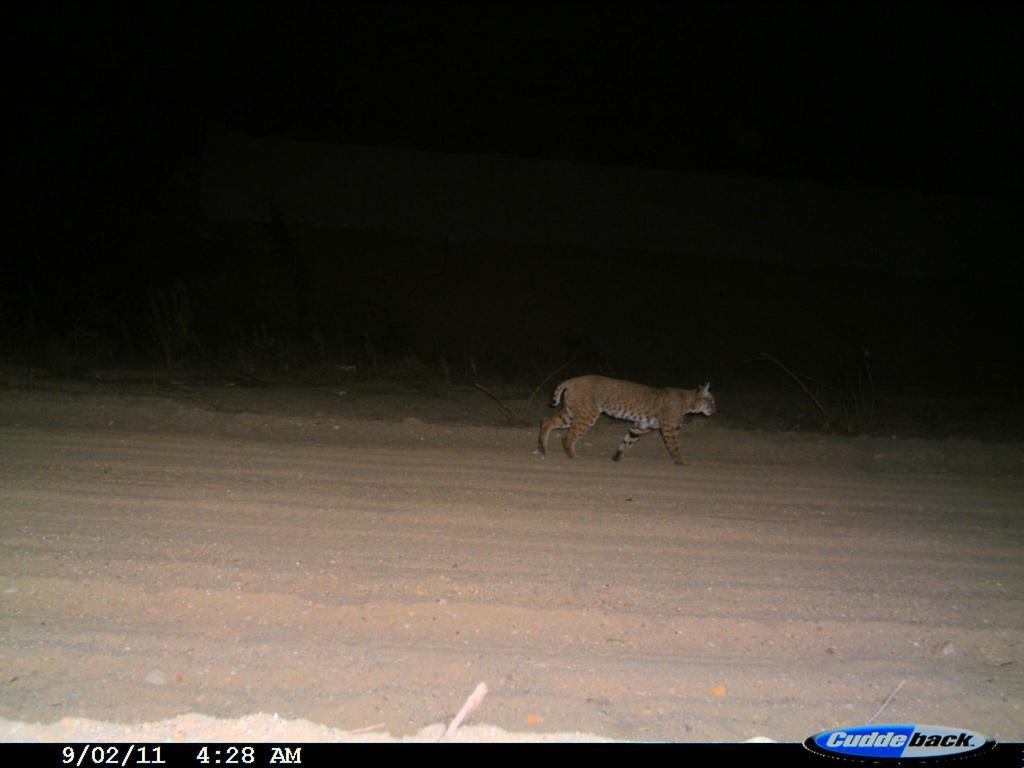bobcat: (532, 364, 724, 474)
